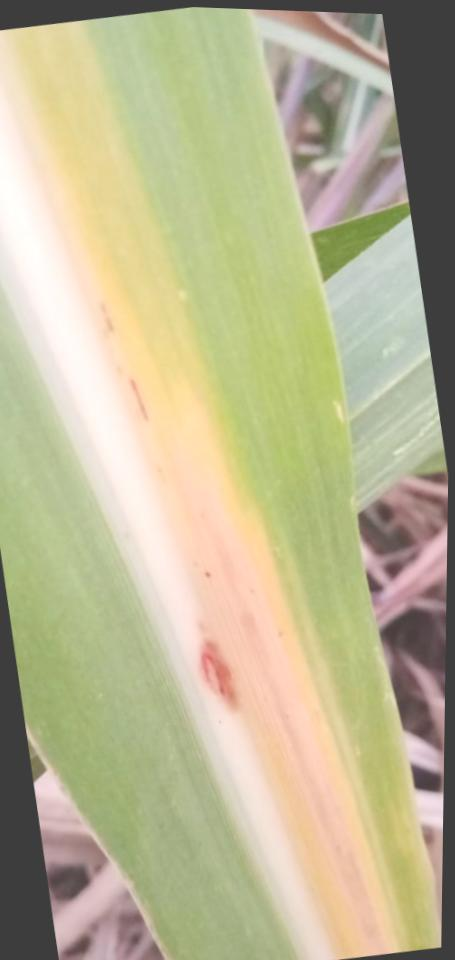RedRot: (192, 630, 240, 711)
Yellow: (0, 21, 406, 958)
